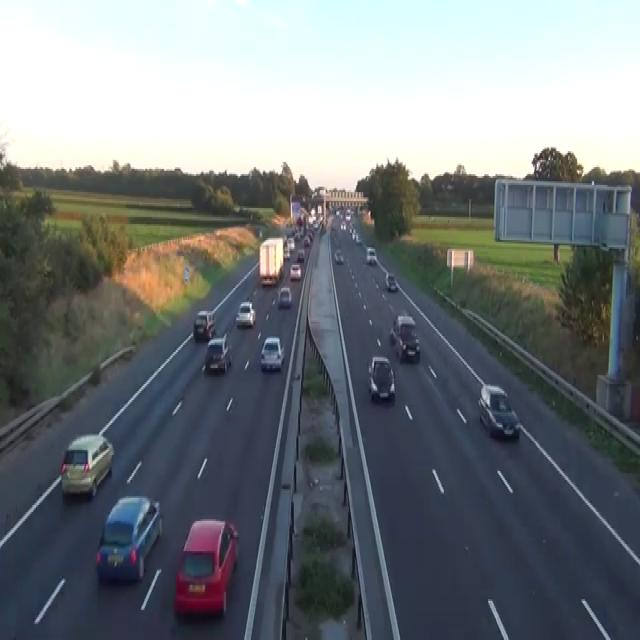Car: (174, 517, 238, 617), (95, 494, 162, 583), (60, 432, 114, 498), (477, 384, 519, 439), (389, 314, 420, 362), (367, 356, 395, 402), (203, 336, 231, 373), (260, 336, 285, 372), (193, 310, 215, 340), (235, 301, 255, 327), (277, 286, 292, 308), (389, 318, 399, 345), (365, 245, 377, 265), (385, 272, 397, 290), (289, 263, 301, 279), (334, 249, 343, 263), (183, 265, 189, 283), (297, 247, 304, 261), (283, 246, 290, 260), (287, 236, 294, 249), (319, 222, 326, 235), (296, 215, 303, 226), (345, 208, 351, 220), (303, 235, 310, 245), (233, 203, 240, 213), (355, 233, 361, 243), (340, 220, 346, 230), (313, 220, 319, 230), (446, 183, 454, 190), (294, 231, 300, 240), (351, 228, 356, 238), (350, 224, 354, 235), (258, 228, 262, 238), (331, 222, 335, 231)
Truck: (259, 237, 284, 284)
